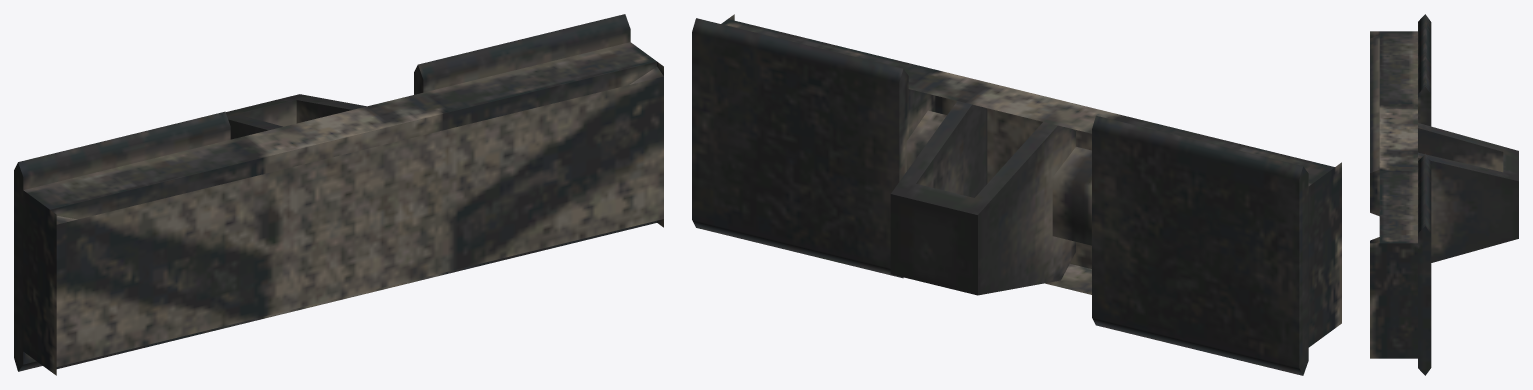
Rendered from segment_pair_0.glb.
The picture shows the model from 3 angles, left to right: view 1: azimuth 30°, elevation 25°; view 2: azimuth 150°, elevation 25°; view 3: azimuth 270°, elevation 25°; orthographic projection. The views are drawn at different scales.
Parts seen in each view (by area): view 1: set_0_group_0; view 2: set_0_group_0; view 3: set_0_group_0.
Part boxes in pixels (box(x1,y1,x2,y2)): set_0_group_0: box(14, 14, 663, 375); set_0_group_0: box(692, 14, 1341, 375); set_0_group_0: box(1370, 14, 1518, 375).
Bounding box in the file's own units: 0.41 × 0.1353 × 0.1217.
1 material, 1 textured.
